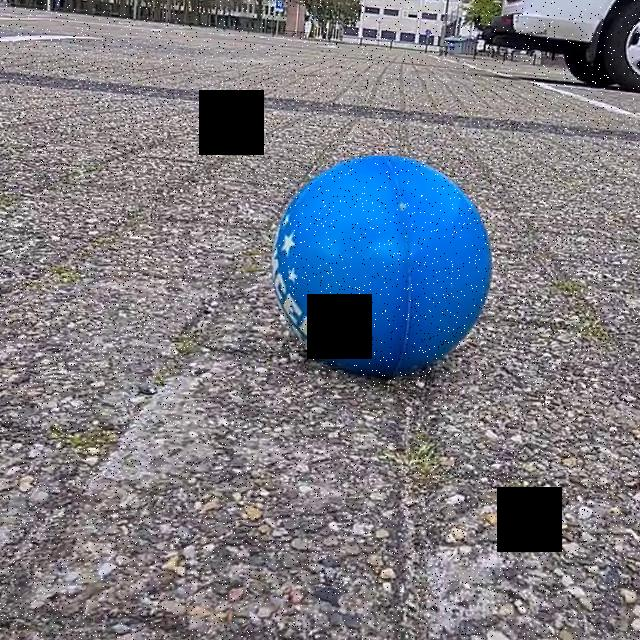ball: (269, 151, 495, 378)
